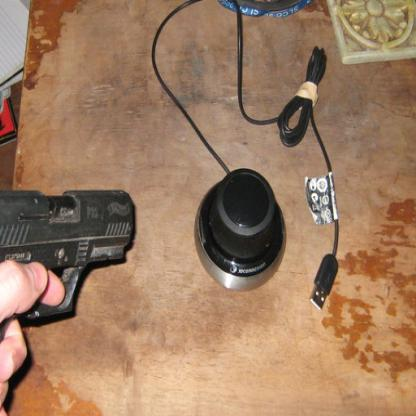gun: (0, 172, 139, 415)
